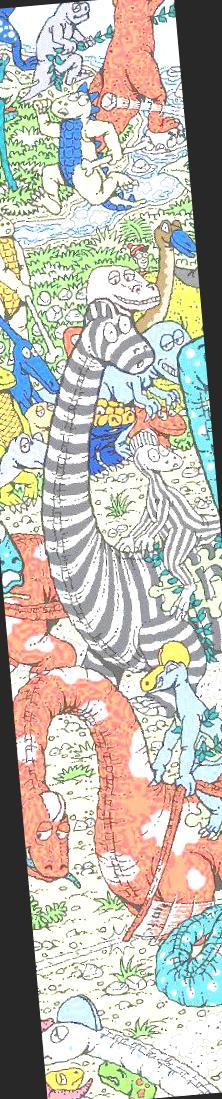waldo: (127, 240, 152, 270)
